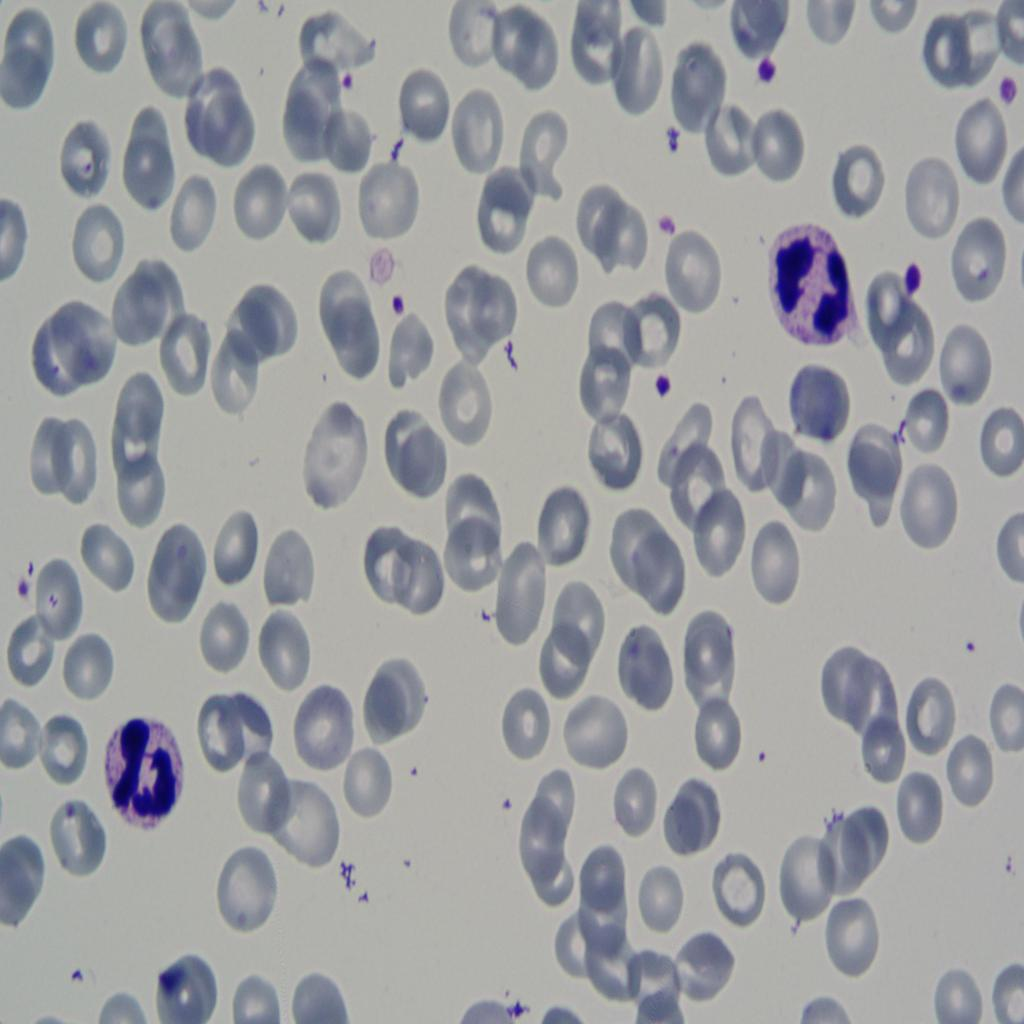Neutrofil: (758, 213, 856, 355), (87, 702, 184, 840)
Platelet: (752, 39, 786, 96), (643, 110, 685, 154), (381, 282, 414, 326), (656, 205, 681, 256), (996, 77, 1022, 118), (653, 362, 675, 406), (900, 260, 918, 308)
